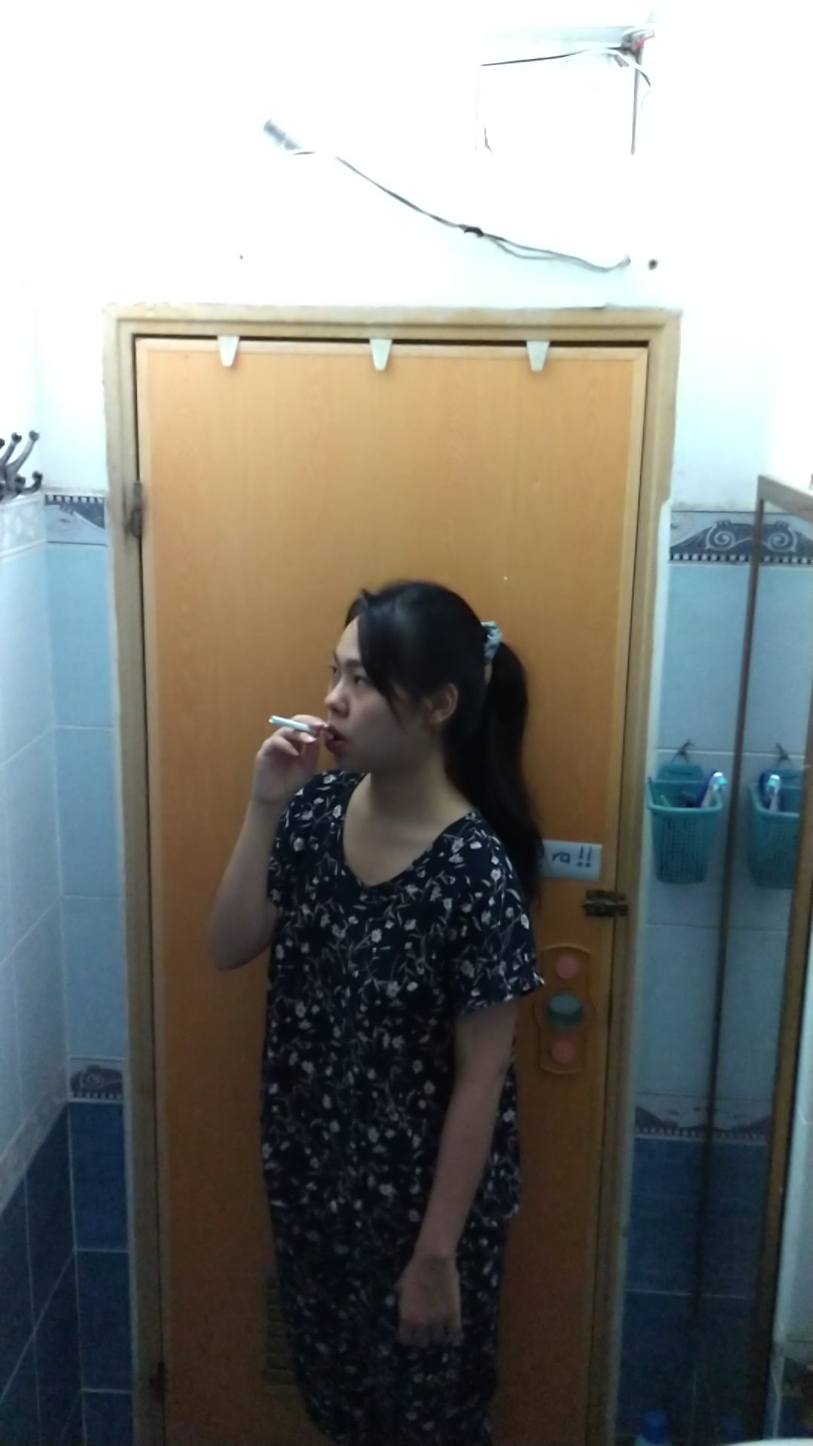cigarette: (264, 711, 309, 734)
person: (196, 565, 563, 1444)
